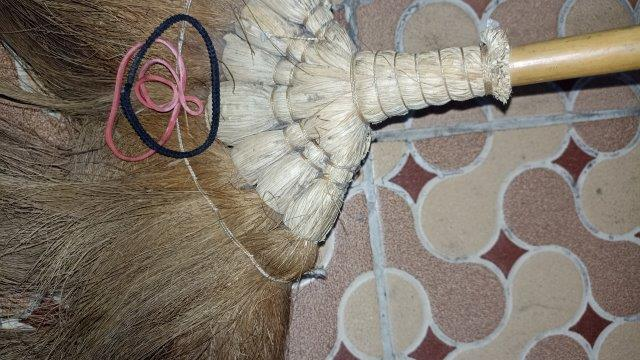karet: (107, 14, 221, 161)
